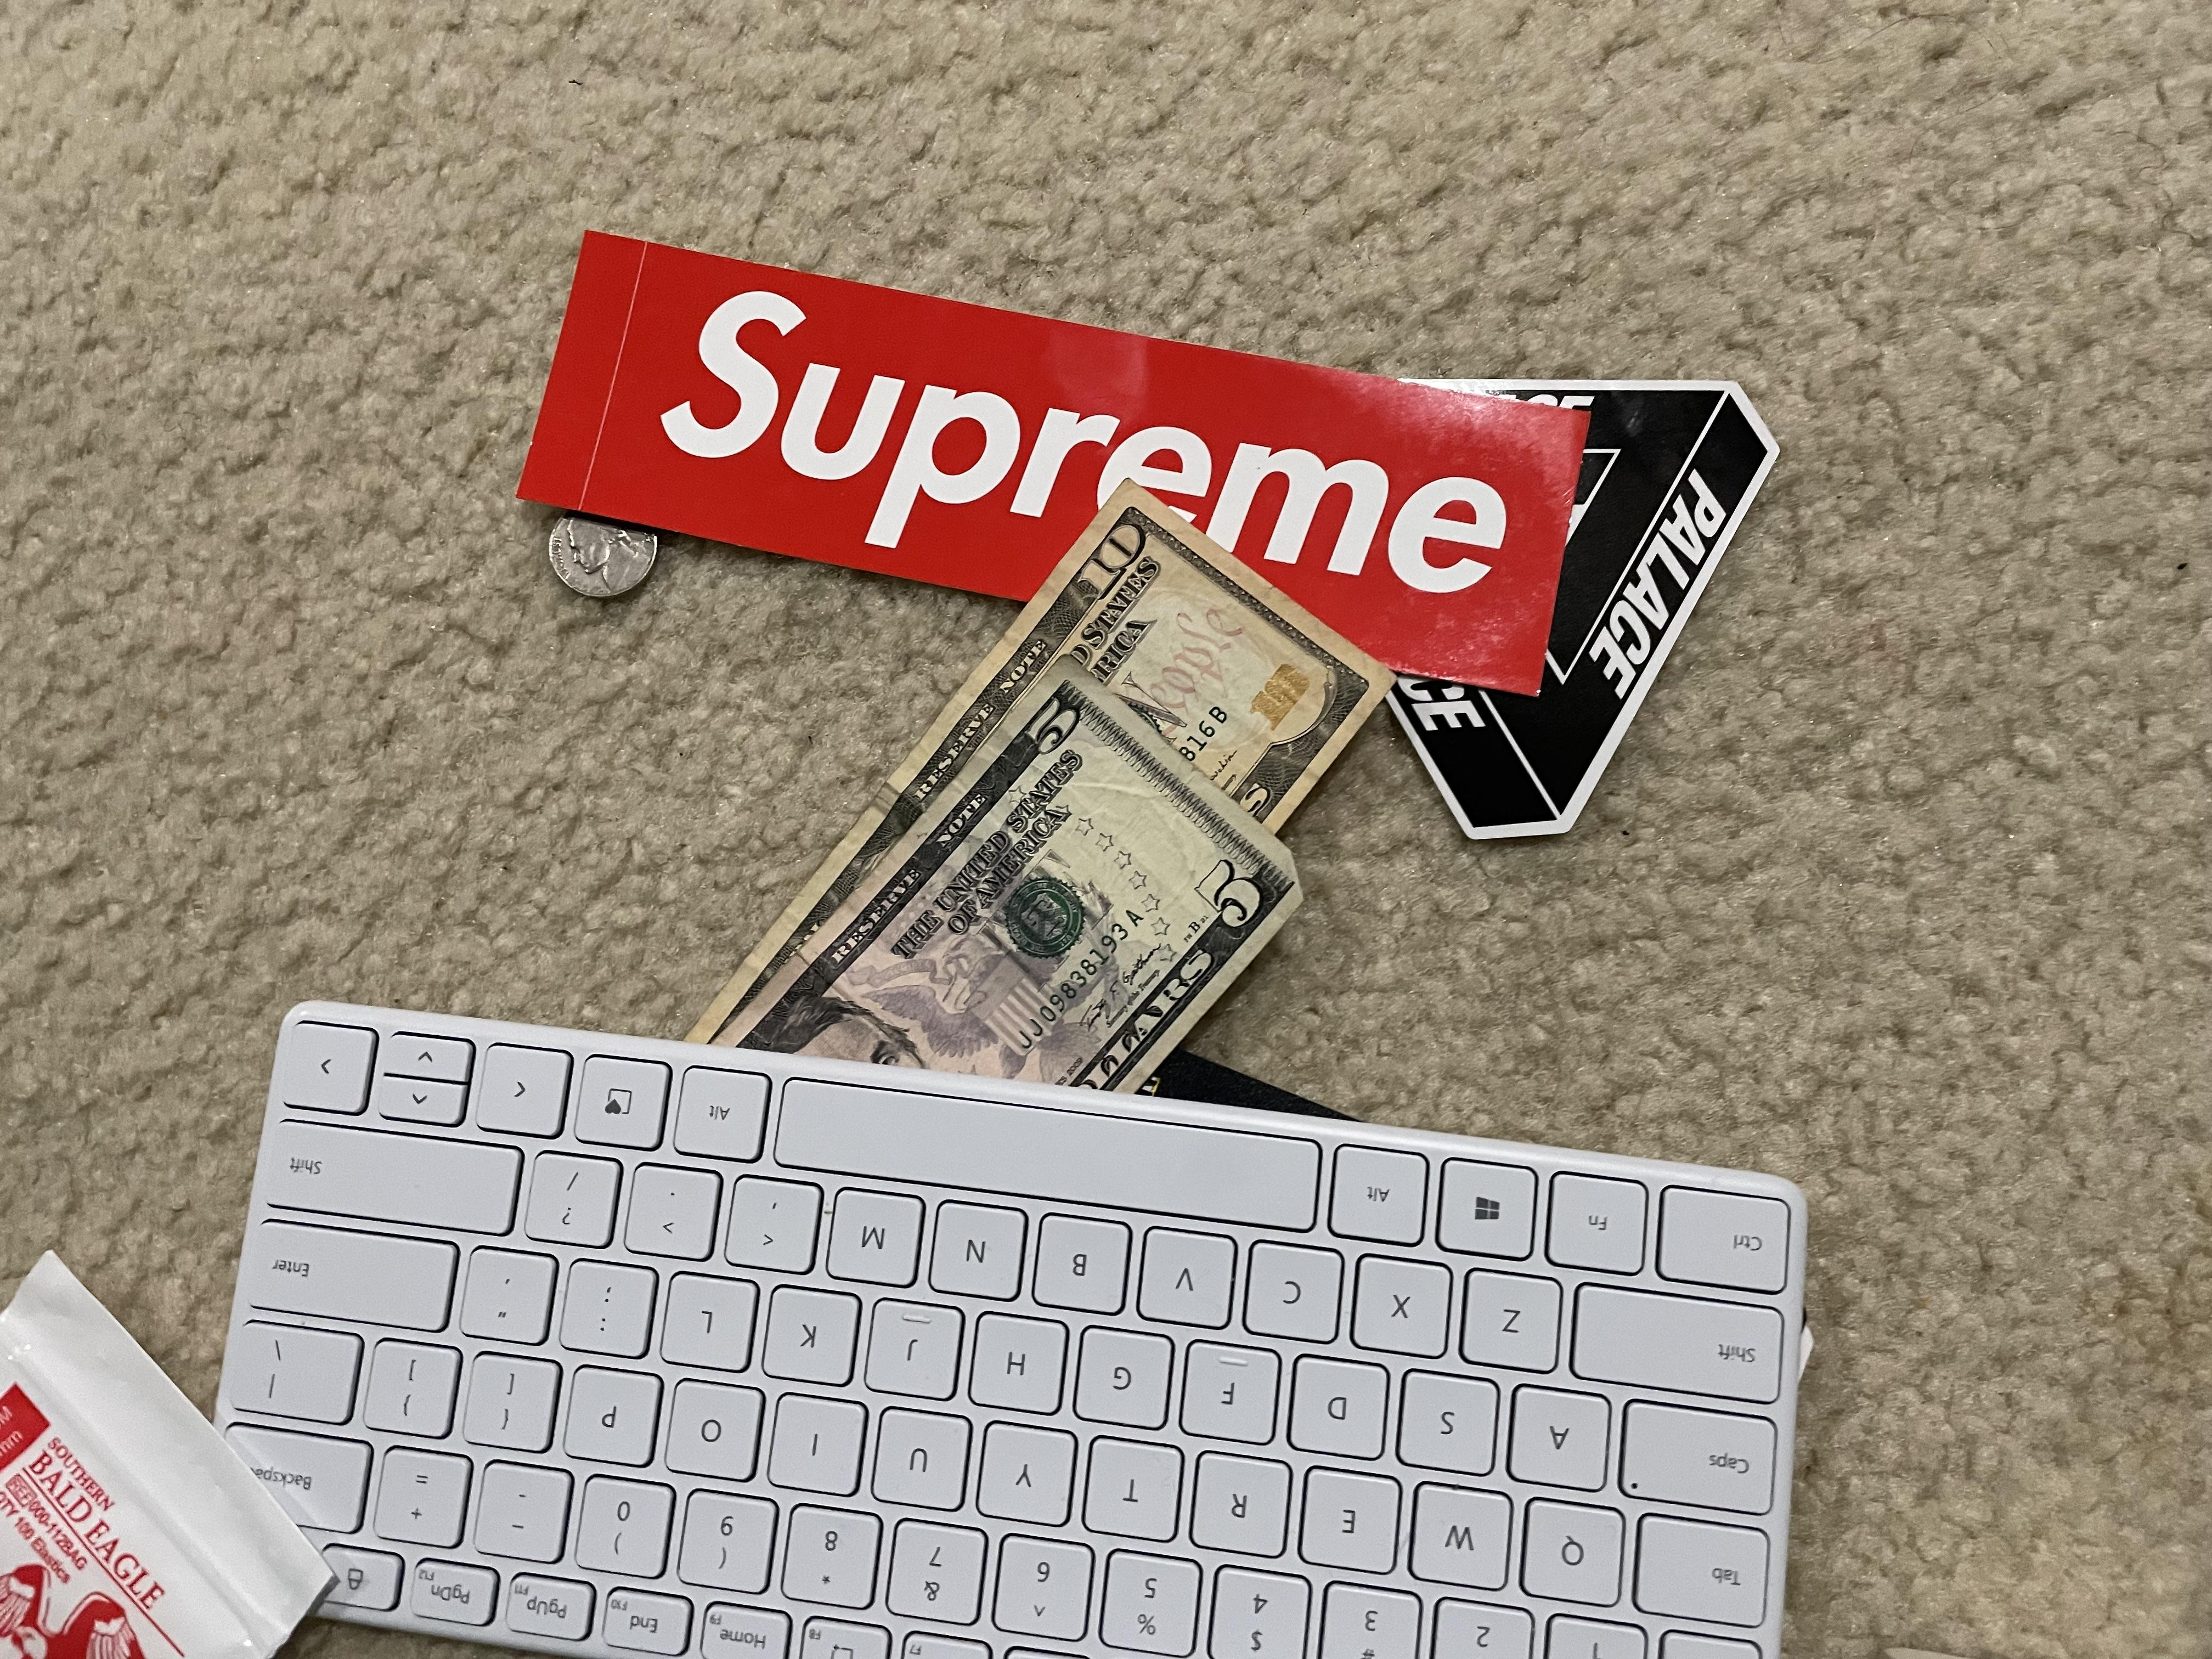FiveBill: (705, 676, 1306, 1133)
Nickel: (512, 500, 676, 598)
TenBill: (705, 495, 1402, 1101)
